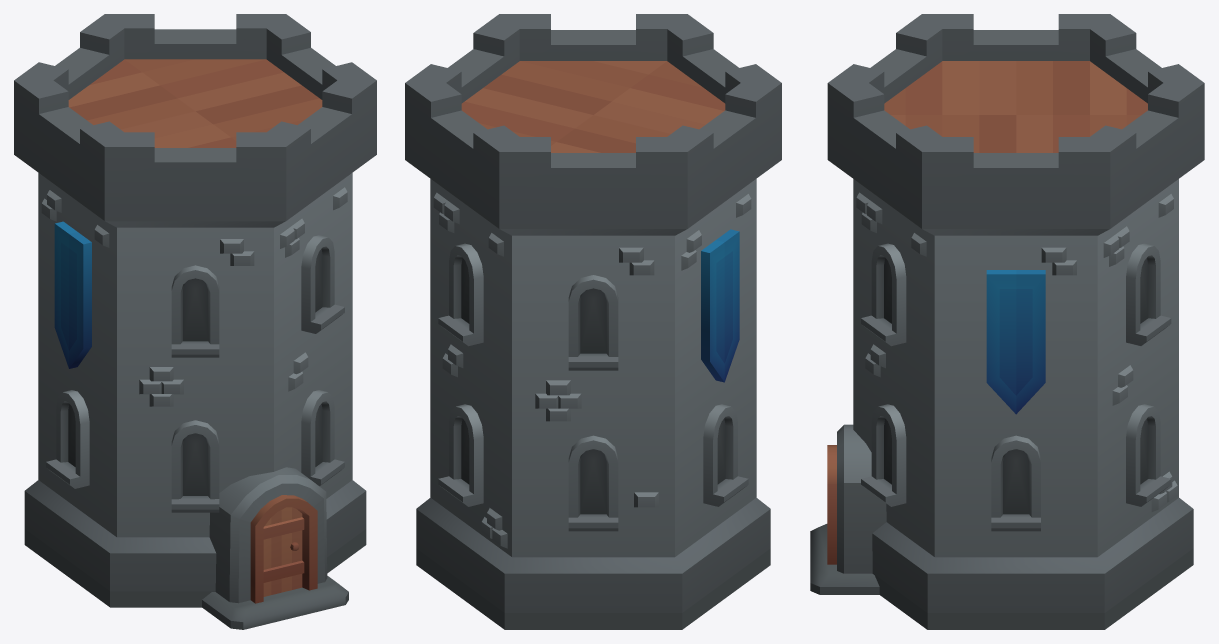
Rendered from H_tower_base_blue.glb.
3 renders of one model, left to right at view 1: azimuth 30°, elevation 25°; view 2: azimuth 150°, elevation 25°; view 3: azimuth 270°, elevation 25°, orthographic. The views are drawn at different scales.
Parts seen in each view (by area): view 1: building_tower_base_blue; view 2: building_tower_base_blue; view 3: building_tower_base_blue.
Boxes of the visible parts, x1=… form: building_tower_base_blue: x1=14, y1=14, x2=376, y2=629; building_tower_base_blue: x1=405, y1=14, x2=781, y2=629; building_tower_base_blue: x1=810, y1=14, x2=1204, y2=629.
Bounding box in the file's own units: 0.9297 × 1.5 × 1.11.
